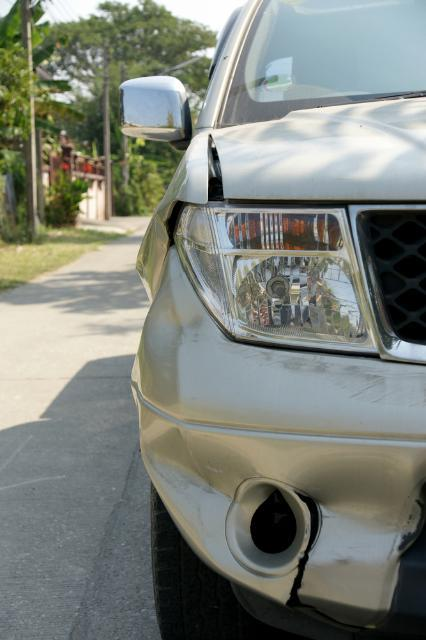crack: (285, 490, 369, 631)
dent: (290, 452, 422, 567), (139, 426, 256, 553), (151, 310, 203, 352)
no part: (252, 493, 295, 550)
scratch: (222, 340, 426, 408)
